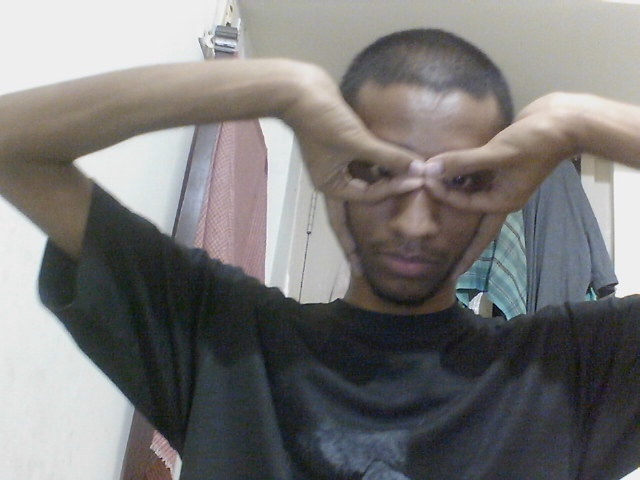hand: (282, 57, 426, 304), (424, 83, 555, 282)
